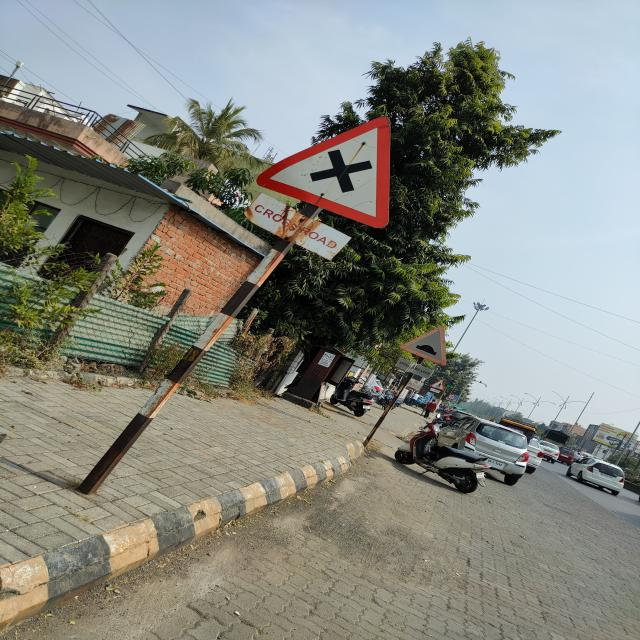cross_road: (254, 115, 391, 230)
